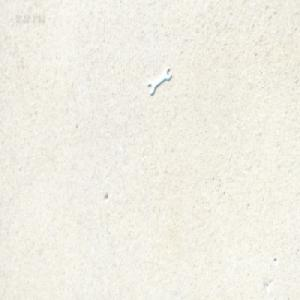Wrench: (147, 65, 171, 95)
